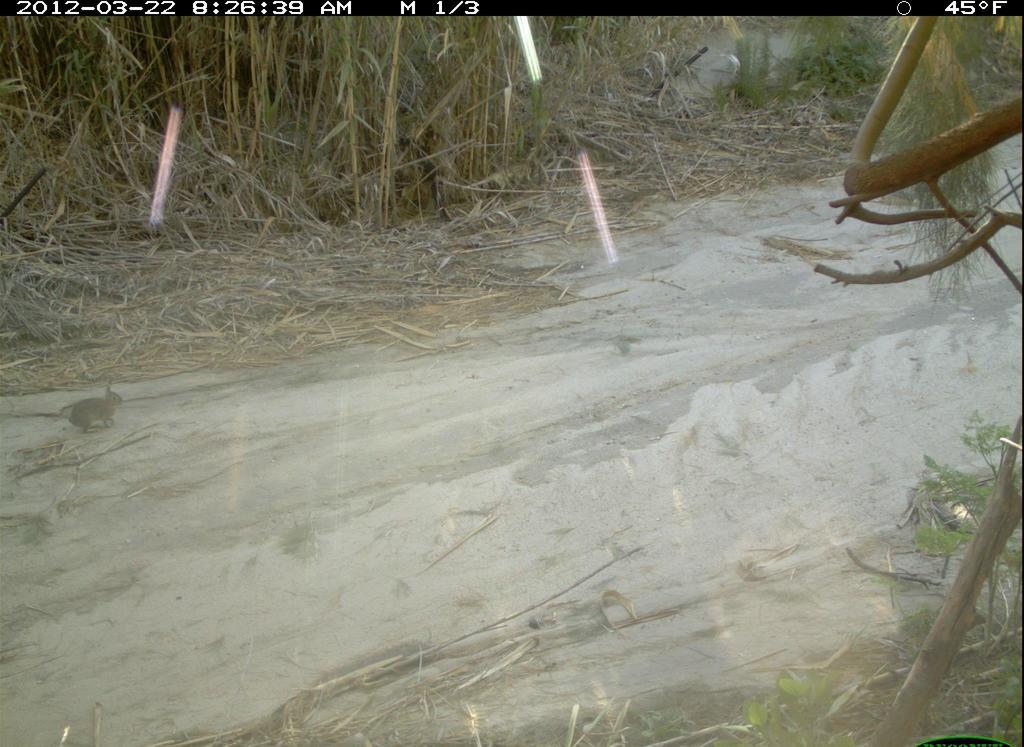rabbit: (52, 383, 132, 449)
